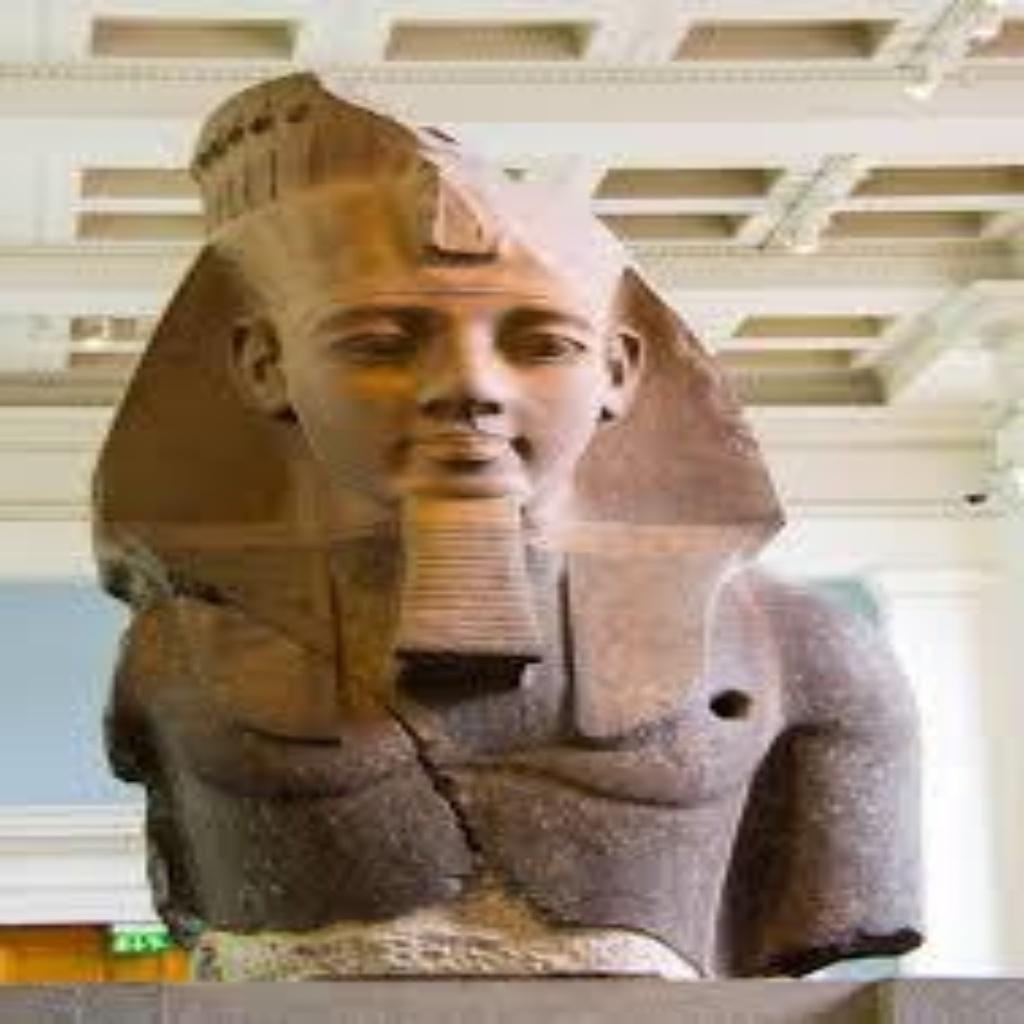bust of Ramesses II: (87, 65, 932, 982)
